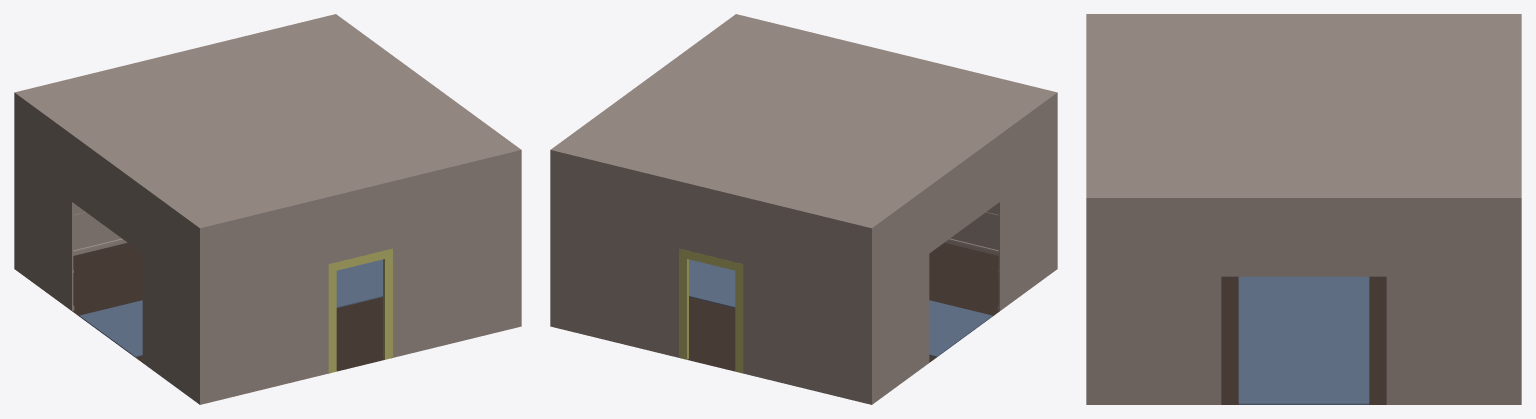
Rendered from Room20_Foyer.fbx.
3 views of the same model, side by side, from view 1: azimuth 30°, elevation 25°; view 2: azimuth 150°, elevation 25°; view 3: azimuth 270°, elevation 25° (orthographic). The views are drawn at different scales.
Visible parts, largest first — view 1: Roof, WallSlicedPosZ, WallOpenPosX, WallSlicedPosZ5, Floor, WallOpenPosX2, Rug, DoorFramePosZ, WallSlicedNegZ21, WallSlicedNegZ, WallOpenNegX; view 2: Roof, WallSlicedNegZ, WallOpenPosX, WallSlicedNegZ21, Floor, WallOpenPosX2, Rug, DoorFrameNegZ, WallSlicedPosZ5, WallSlicedPosZ; view 3: Roof, WallOpenNegX, Rug, WallOpenNegX3, Floor, WallSlicedNegZ, WallSlicedPosZ, WallOpenPosX.
Part boxes in pixels (bbox=[...]): Roof: bbox=[17, 15, 518, 227]; WallSlicedPosZ: bbox=[199, 149, 521, 364]; WallOpenPosX: bbox=[14, 92, 201, 363]; WallSlicedPosZ5: bbox=[199, 286, 521, 404]; Floor: bbox=[72, 242, 392, 373]; WallOpenPosX2: bbox=[14, 229, 202, 404]; Rug: bbox=[79, 259, 382, 357]; DoorFramePosZ: bbox=[328, 248, 392, 372]; WallSlicedNegZ21: bbox=[14, 212, 127, 269]; WallSlicedNegZ: bbox=[14, 14, 336, 228]; WallOpenNegX: bbox=[335, 14, 521, 286]; Roof: bbox=[553, 15, 1054, 227]; WallSlicedNegZ: bbox=[550, 149, 872, 364]; WallOpenPosX: bbox=[870, 92, 1056, 363]; WallSlicedNegZ21: bbox=[550, 286, 872, 404]; Floor: bbox=[679, 242, 999, 373]; WallOpenPosX2: bbox=[869, 230, 1057, 404]; Rug: bbox=[689, 259, 992, 357]; DoorFrameNegZ: bbox=[679, 248, 743, 372]; WallSlicedPosZ5: bbox=[944, 212, 1057, 269]; WallSlicedPosZ: bbox=[736, 14, 1057, 228]; Roof: bbox=[1088, 14, 1519, 197]; WallOpenNegX: bbox=[1086, 197, 1521, 357]; Rug: bbox=[1238, 276, 1369, 404]; WallOpenNegX3: bbox=[1086, 357, 1521, 404]; Floor: bbox=[1221, 276, 1386, 404]; WallSlicedNegZ: bbox=[1520, 14, 1521, 357]; WallSlicedPosZ: bbox=[1086, 14, 1087, 357]; WallOpenPosX: bbox=[1088, 14, 1519, 14].
Size of the model in its own units: 800 by 420 by 800.
